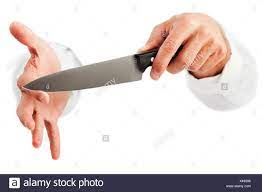weapon-unusual: (21, 33, 205, 95)
